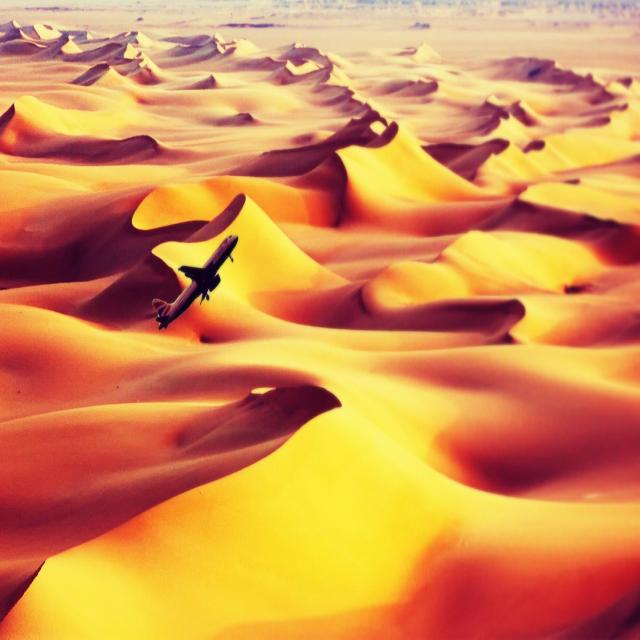airplane: (151, 232, 239, 331)
